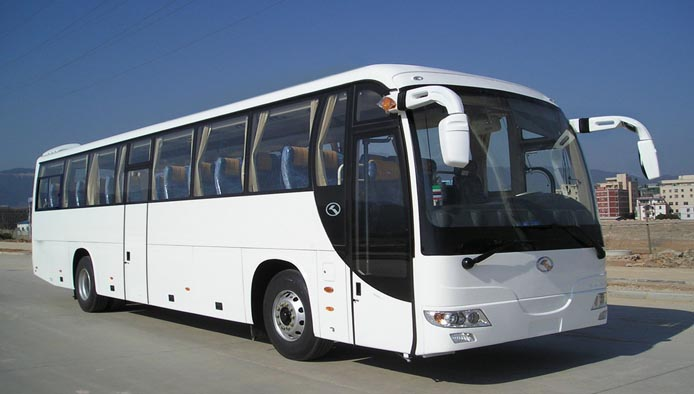bus: (29, 57, 662, 363)
